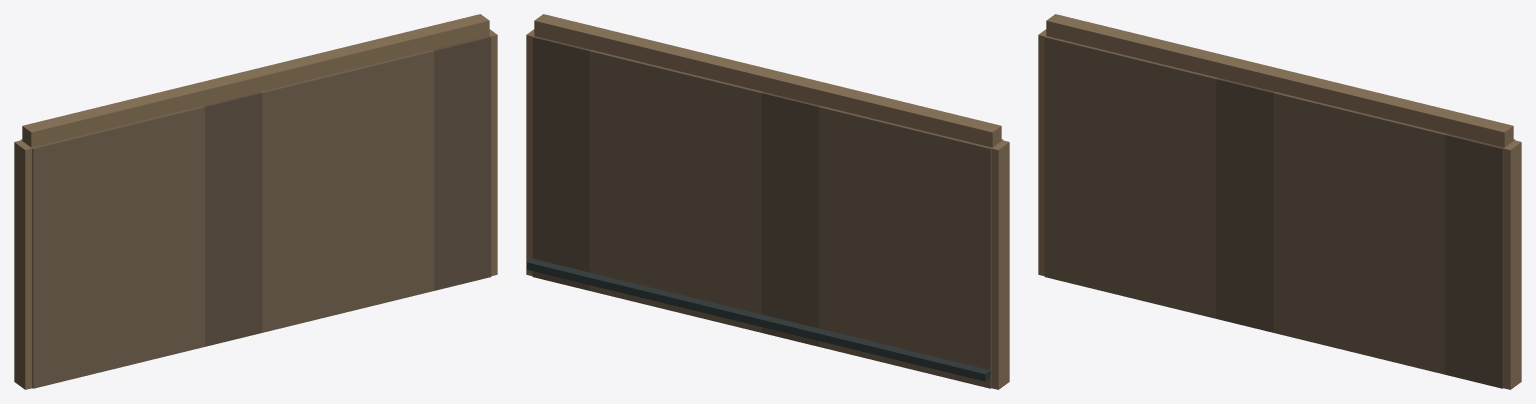
Rendered from S2_Partition_Solid.fbx.
3 views of the same model, side by side, from view 1: azimuth 30°, elevation 25°; view 2: azimuth 150°, elevation 25°; view 3: azimuth 330°, elevation 25° (orthographic).
Visible parts, largest first — view 1: S2_Partition_Solid; view 2: S2_Partition_Solid; view 3: S2_Partition_Solid.
Boxes of the visible parts, x1,y1,x2,y2 form: S2_Partition_Solid: [14, 14, 497, 389]; S2_Partition_Solid: [526, 14, 1009, 389]; S2_Partition_Solid: [1038, 14, 1521, 389].
Bounding box in the file's own units: 5.36 × 2.76 × 0.355.
